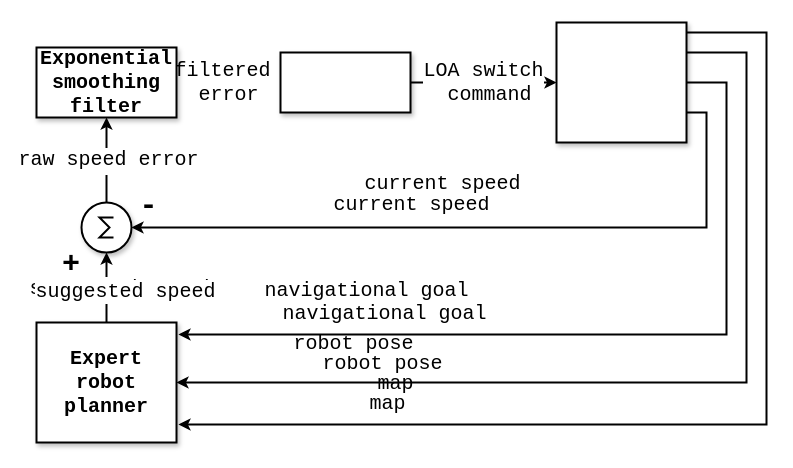
Image size: 793x468. Some labels were removed from this diagram. The centre of each missing label's shape, as x and y in pixels:
"Human-robot system" goes at (x=622, y=83).
"MI controller" goes at (x=346, y=83).
